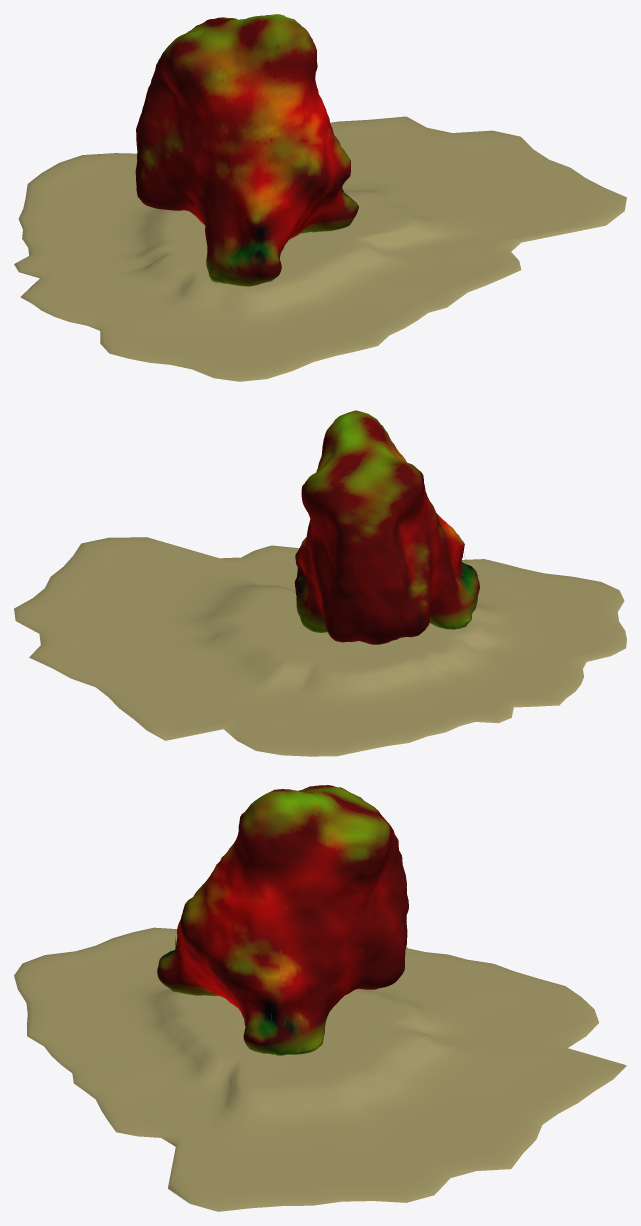
File: cocoon-corpse.glb
3 renders of one model, top to bottom at view 1: azimuth 30°, elevation 25°; view 2: azimuth 150°, elevation 25°; view 3: azimuth 270°, elevation 25°, orthographic. The views are drawn at different scales.
Parts seen in each view (by area): view 1: cocoon-pool, cocoon-shell; view 2: cocoon-pool, cocoon-shell; view 3: cocoon-pool, cocoon-shell.
Part boxes in pixels (box(x1,y1,x2,y2)): cocoon-pool: box(14, 116, 626, 381); cocoon-shell: box(135, 14, 358, 286); cocoon-pool: box(14, 537, 626, 756); cocoon-shell: box(294, 410, 479, 644); cocoon-pool: box(14, 927, 626, 1211); cocoon-shell: box(157, 785, 408, 1055).
Bounding box in the file's own units: 2.15 × 0.8739 × 1.93.
